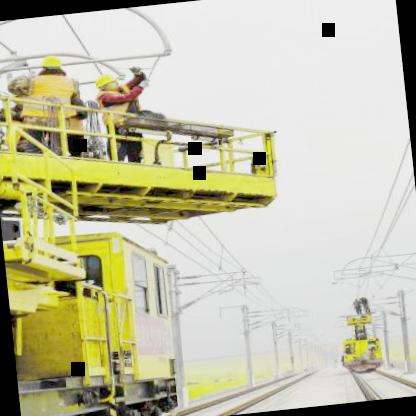helmet: (32, 52, 70, 82), (92, 68, 124, 96)
